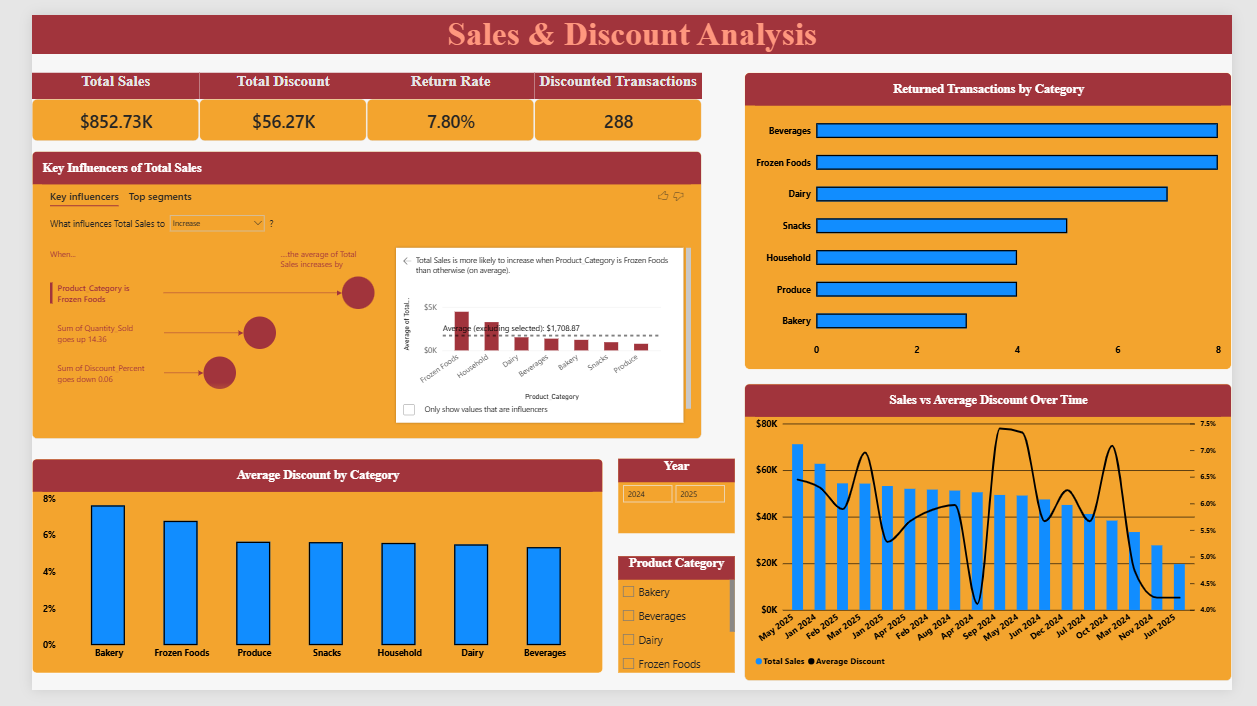

This screenshot's page, from the dashboard's own definition file:
{"tool":"powerbi","page":{"name":"Sales & Discount Analysis","canvas":[1920,1080],"ordinal":3},"visuals":[{"type":"cardVisual","title":"Total Sales","fields":{"Data":["Measures Table.Total Sales"]},"box":[0,92.3,267.8,110.4],"z":0},{"type":"textbox","box":[0,0,1920.5,62.4],"z":1000},{"type":"cardVisual","title":"Total Discount","fields":{"Data":["Measures Table.Total Discount"]},"box":[267.8,92.3,267.8,110.4],"z":2000},{"type":"cardVisual","title":"Return Rate","fields":{"Data":["Measures Table.Return Rate"]},"box":[535.7,92.3,267.8,110.4],"z":3000},{"type":"cardVisual","title":"Discounted Transactions","fields":{"Data":["Measures Table.Discounted Transactions"]},"box":[803.5,92.3,267.8,110.4],"z":4000},{"type":"lineClusteredColumnComboChart","title":"Sales vs Average Discount Over Time","fields":{"Category":["Date.Month Year"],"Y":["Measures Table.Total Sales"],"Y2":["Measures Table.Average Discount"]},"box":[1140.9,590.6,779.6,475.1],"z":5000},{"type":"clusteredBarChart","title":"Returned Transactions by Category","fields":{"Category":["Product.Product_Category"],"Y":["Measures Table.Returned Transactions"]},"box":[1140.9,91.7,779.6,475.1],"z":6000},{"type":"columnChart","title":"Average Discount by Category","fields":{"Category":["Product.Product_Category"],"Y":["Measures Table.Average Discount"]},"box":[0,709.9,913.5,343],"z":7000},{"type":"keyDriversVisual","title":"Key Influencers of Total Sales","fields":{"ExplainBy":["Product.Product_Category","Product.Product_Name","Store.Store_ID","Payment.Payment_Mode","Employee.Employee_Name","Sum(Sales.Discount_Percent)","Sum(Sales.Quantity_Sold)","Sum(Sales.Customer_Rating)"],"Target":["Measures Table.Total Sales"]},"box":[0,217.2,1071.3,459.7],"z":8000},{"type":"slicer","title":"Year","fields":{"Values":["Date.Year"]},"box":[937.4,709.4,186.4,119.4],"z":8001},{"type":"slicer","title":"Product Category","fields":{"Values":["Product.Product_Category"]},"box":[937.4,866.8,186.4,186.4],"z":8002}]}

Visuals, with their boxes in screenshot pixels (x1, y1, x2, y2), scaled from the page's 1920x1080 canvas onto the 1257x706 screenshot:
"Total Sales" cardVisual: 0,60,175,133
textbox: 0,0,1256,41
"Total Discount" cardVisual: 175,60,351,133
"Return Rate" cardVisual: 351,60,526,133
"Discounted Transactions" cardVisual: 526,60,701,133
"Sales vs Average Discount Over Time" lineClusteredColumnComboChart: 747,386,1256,697
"Returned Transactions by Category" clusteredBarChart: 747,60,1256,371
"Average Discount by Category" columnChart: 0,464,598,688
"Key Influencers of Total Sales" keyDriversVisual: 0,142,701,442
"Year" slicer: 614,464,736,542
"Product Category" slicer: 614,567,736,688
